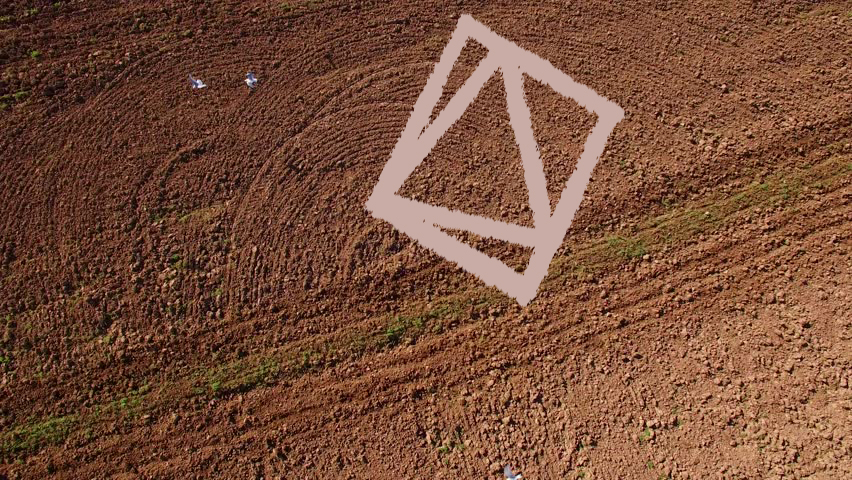marker: (359, 7, 625, 321)
